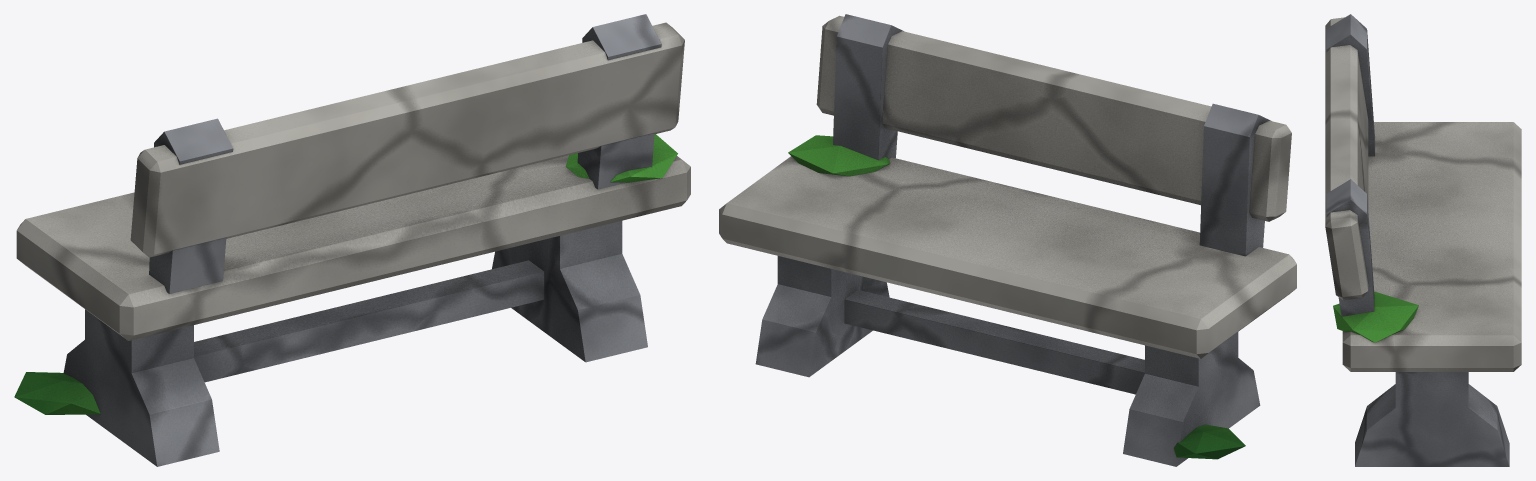
Rendered from banco_piedra.fbx.
3 views of the same model, side by side, from view 1: azimuth 30°, elevation 25°; view 2: azimuth 150°, elevation 25°; view 3: azimuth 270°, elevation 25° (orthographic). The views are drawn at different scales.
Parts seen in each view (by area): view 1: banco_piedra; view 2: banco_piedra; view 3: banco_piedra.
Boxes of the visible parts, x1,y1,x2,y2 form: banco_piedra: (14, 14, 690, 466); banco_piedra: (719, 14, 1296, 466); banco_piedra: (1325, 14, 1521, 466).
Size of the model in its own units: 6.66 by 3.6 by 2.41.
1 material, 1 textured.
